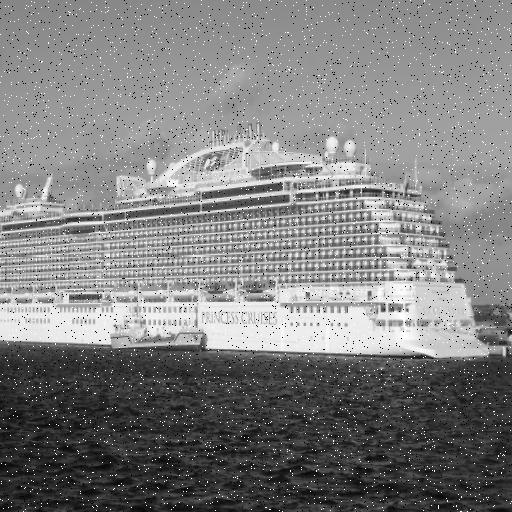cruises: (1, 117, 493, 371)
